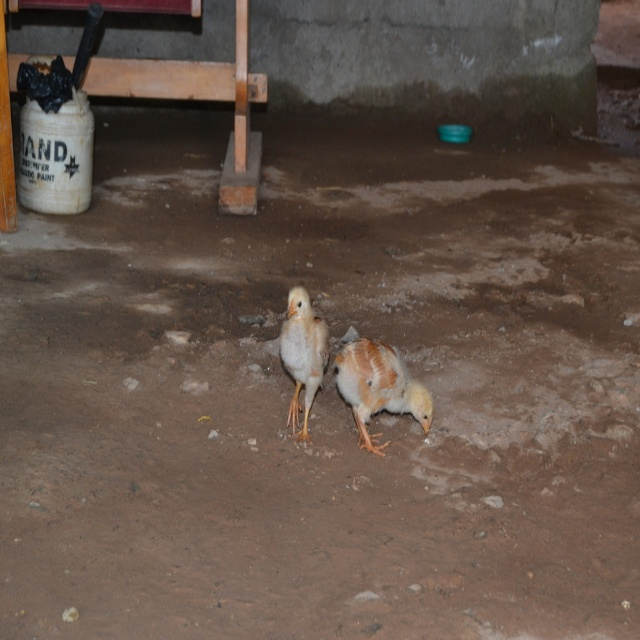Chicken: (274, 280, 333, 436)
